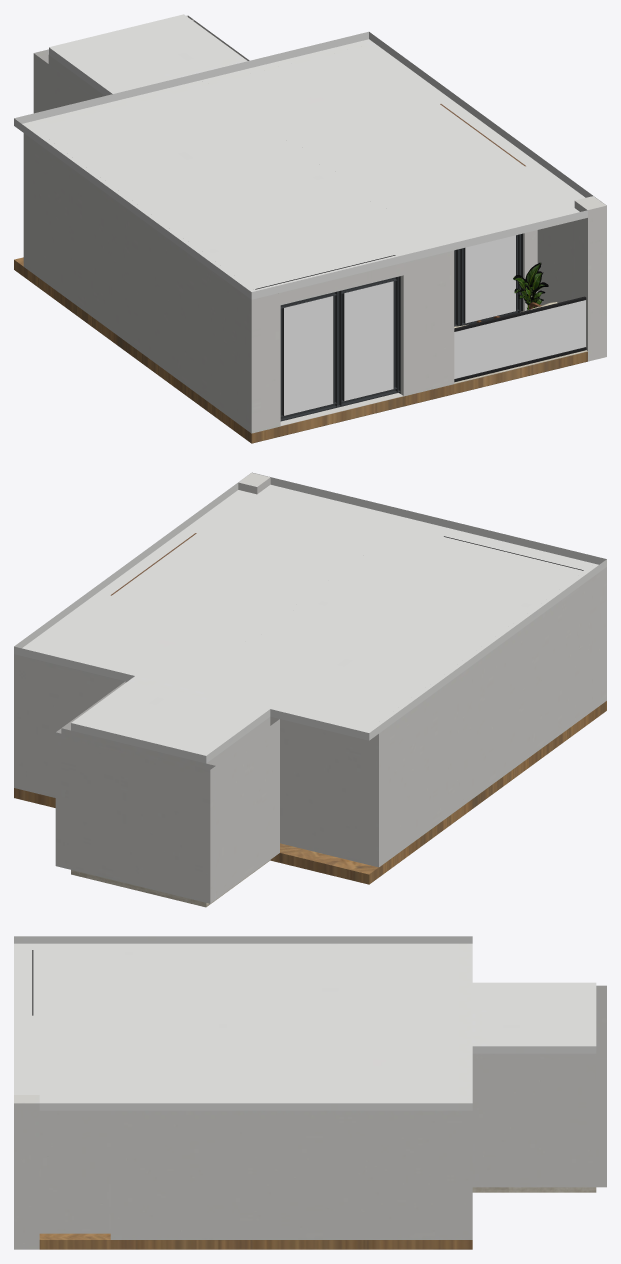
The picture shows the model from 3 angles, top to bottom: view 1: azimuth 30°, elevation 25°; view 2: azimuth 150°, elevation 25°; view 3: azimuth 270°, elevation 25°; orthographic projection. The views are drawn at different scales.
Visible parts, largest first — view 1: ceiling, wall, landing_ceiling, column, rail_glass, floor, living_window_glass1, living_window_glass0, wall.022, loggia_wall_end, bedroom_loggia_glass1, wall.025 (+8 smaller); view 2: ceiling, wall, landing_wall_n, wall.001, landing_ceiling, landing_wall_w, wall.005, floor, wall.017, wall.022, landing_floor; view 3: ceiling, wall.017, landing_wall_e, landing_ceiling, wall.025, floor, loggia_wall_end, landing_wall_n, wall.021, wall.005, landing_floor.
Part boxes in pixels (x1=…): ceiling: x1=14, y1=31, x2=606, y2=299; wall: x1=30, y1=138, x2=244, y2=428; landing_ceiling: x1=49, y1=14, x2=247, y2=95; column: x1=406, y1=250, x2=454, y2=395; rail_glass: x1=454, y1=300, x2=585, y2=378; floor: x1=14, y1=257, x2=587, y2=443; living_window_glass1: x1=344, y1=281, x2=393, y2=400; living_window_glass0: x1=284, y1=296, x2=333, y2=415; wall.022: x1=244, y1=293, x2=280, y2=433; loggia_wall_end: x1=574, y1=196, x2=606, y2=361; bedroom_loggia_glass1: x1=465, y1=235, x2=515, y2=323; wall.025: x1=537, y1=221, x2=574, y2=305; ceiling: x1=14, y1=472, x2=606, y2=740; wall: x1=386, y1=572, x2=599, y2=861; landing_wall_n: x1=55, y1=728, x2=215, y2=903; wall.001: x1=280, y1=719, x2=385, y2=867; landing_ceiling: x1=71, y1=676, x2=270, y2=763; landing_wall_w: x1=206, y1=716, x2=279, y2=899; wall.005: x1=26, y1=657, x2=124, y2=797; floor: x1=14, y1=701, x2=606, y2=884; wall.017: x1=14, y1=654, x2=25, y2=790; wall.022: x1=600, y1=567, x2=606, y2=705; landing_floor: x1=71, y1=860, x2=270, y2=907; ceiling: x1=14, y1=936, x2=472, y2=1110; wall.017: x1=121, y1=1110, x2=461, y2=1239; landing_wall_e: x1=472, y1=1053, x2=596, y2=1187; landing_ceiling: x1=472, y1=982, x2=596, y2=1053; wall.025: x1=39, y1=1110, x2=110, y2=1233; floor: x1=39, y1=1233, x2=472, y2=1249; loggia_wall_end: x1=14, y1=1095, x2=39, y2=1249; landing_wall_n: x1=596, y1=985, x2=606, y2=1187; wall.021: x1=110, y1=1110, x2=121, y2=1239; wall.005: x1=462, y1=1110, x2=472, y2=1239; landing_floor: x1=472, y1=1187, x2=596, y2=1192.
Bounding box in the file's own units: 7.36 × 3 × 11.03.
137 materials, 77 textured.
